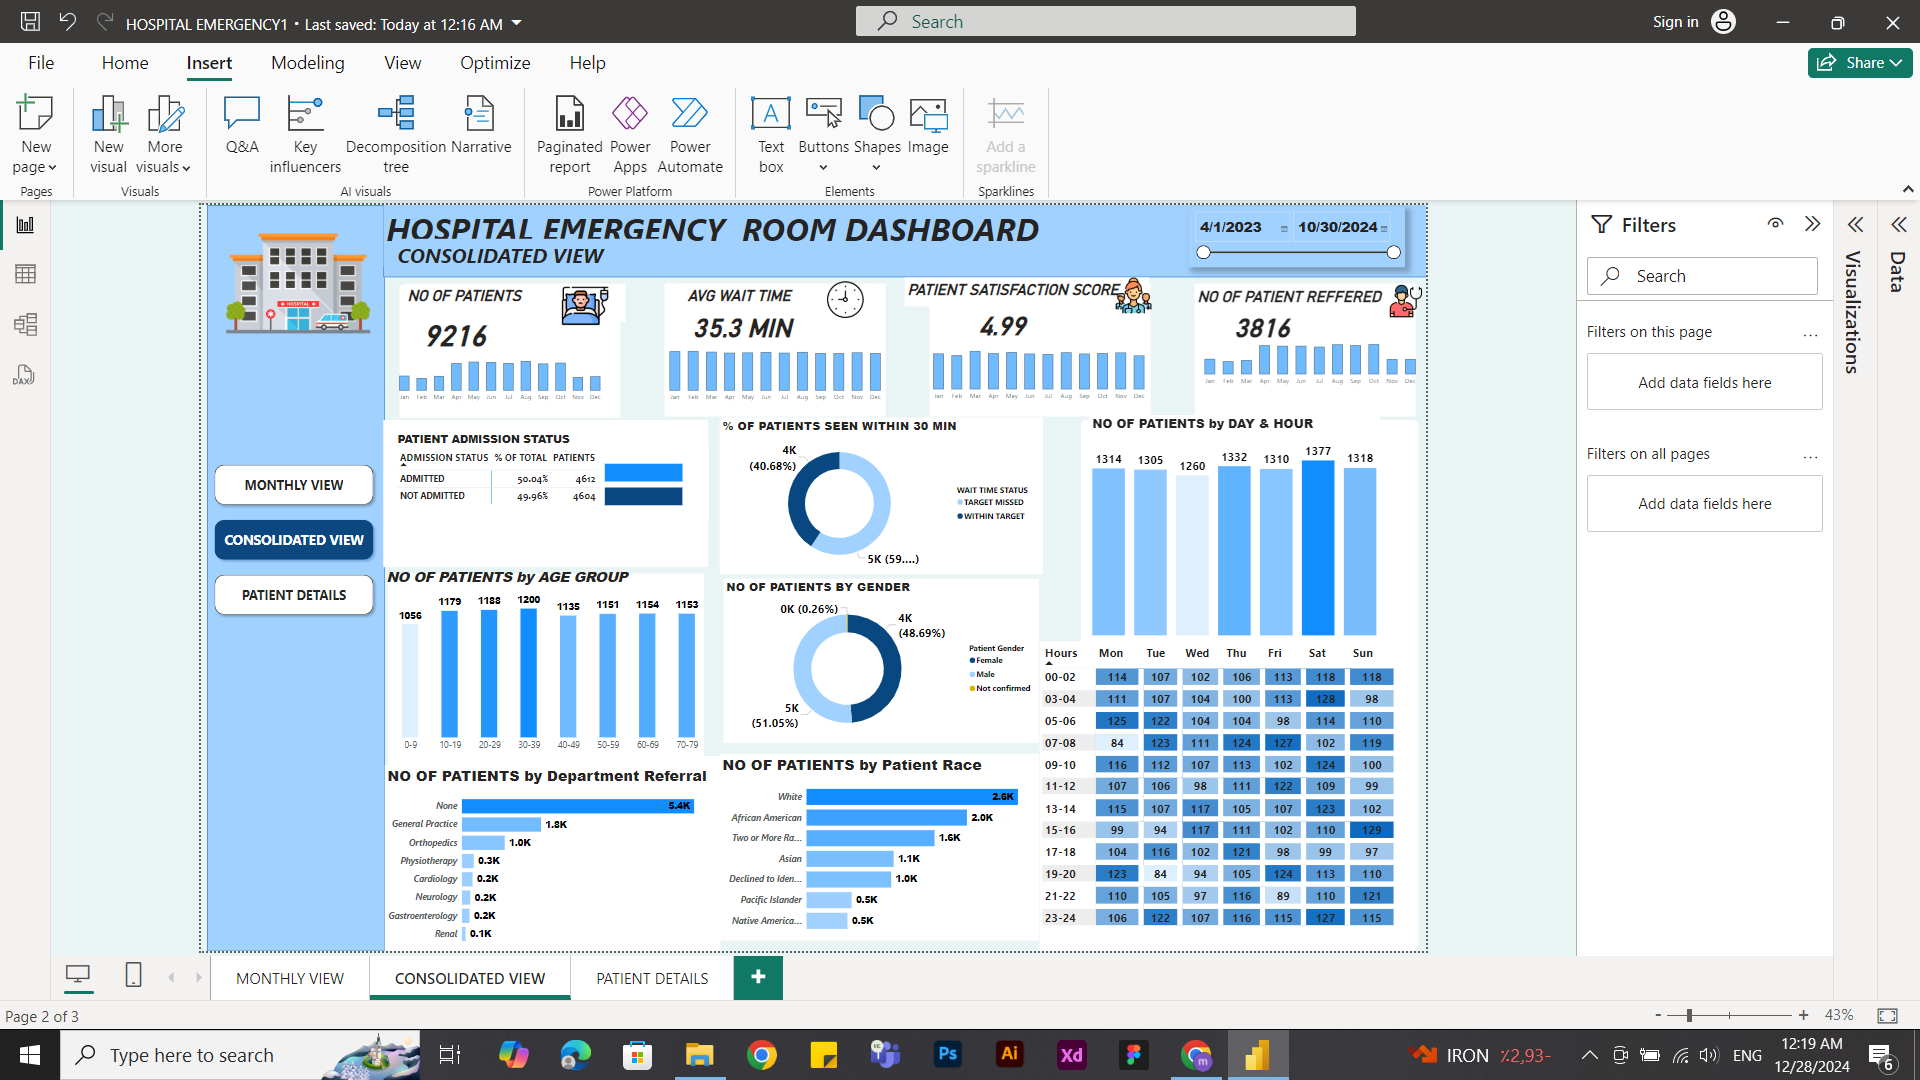

What the dashboard file says about the page in this screenshot:
{"tool":"powerbi","page":{"name":"CONSOLIDATED VIEW","canvas":[2300,1400],"ordinal":1},"visuals":[{"type":"shape","box":[12.3,0,332.9,1400.5],"z":0},{"type":"shape","box":[372.3,150.4,414.2,249],"z":1000},{"type":"shape","box":[342.7,0,1957.8,135.6],"z":2000},{"type":"textbox","box":[342.7,0,1957.8,115.9],"z":3000},{"type":"textbox","box":[362.5,64.1,515.3,66.6],"z":4000},{"type":"card","fields":{"Values":["Hospital ER_Data.NO OF PATIENTS"]},"box":[362.5,184.9,224.4,108.5],"z":5000},{"type":"slicer","fields":{"Values":["DateTable.Date"]},"box":[1854.3,2.5,406.6,114],"z":7000},{"type":"textbox","box":[382.2,147.9,414.2,71.5],"z":8000},{"type":"columnChart","fields":{"Category":["DateTable.Month name"],"Y":["Hospital ER_Data.NO OF PATIENTS"]},"box":[354.5,252.9,414,125],"z":9000},{"type":"shape","box":[1366.8,147.9,414.2,249],"z":11000},{"type":"shape","box":[869.6,147.9,414.2,249],"z":12000},{"type":"shape","box":[1864.1,147.9,414.2,249],"z":13000},{"type":"textbox","box":[907.4,147.9,352.6,71.5],"z":14000},{"type":"card","fields":{"Values":["Hospital ER_Data.AVG WAIT TIME"]},"box":[877.8,170.1,276.2,108.5],"z":15000},{"type":"columnChart","fields":{"Y":["Hospital ER_Data.Patient Waittime"],"Category":["DateTable.Month name"]},"box":[860.5,254,434,125],"z":16000},{"type":"textbox","box":[1864.1,150.4,414.2,66.6],"z":17000},{"type":"textbox","box":[1321.3,136.3,458.6,54.5],"z":18000},{"type":"card","fields":{"Values":["Hospital ER_Data.SATISFACTION SCORE"]},"box":[1366,167.7,276.2,108.5],"z":19000},{"type":"card","fields":{"Values":["Hospital ER_Data.NO OF PATIENTS REFERRED"]},"box":[1854.2,170.1,276.2,108.5],"z":20000},{"type":"columnChart","fields":{"Category":["DateTable.Month name"],"Y":["Hospital ER_Data.SATISFACTION SCORE"]},"box":[1356.1,251.5,434,125],"z":21000},{"type":"columnChart","fields":{"Category":["DateTable.Month name"],"Y":["Hospital ER_Data.NO OF PATIENTS REFERRED"]},"box":[1864.1,221.9,434,125],"z":22000},{"type":"shape","box":[342.7,404.4,609,276.2],"z":23000},{"type":"pivotTable","title":"PATIENT ADMISSION STATUS","fields":{"Rows":["Hospital ER_Data.ADMISSION STATUS"],"Values":["Hospital ER_Data.NO OF PATIENTS","Hospital ER_Data.NO OF PATIENTS1"]},"box":[362.5,424.1,389.6,197.3],"z":24000},{"type":"barChart","fields":{"Category":["Hospital ER_Data.ADMISSION STATUS"],"Series":["Hospital ER_Data.ADMISSION STATUS"],"Y":["Hospital ER_Data.NO OF PATIENTS"]},"box":[752,451.2,199.7,143],"z":25000},{"type":"shape","box":[352.6,692.9,591.8,364.9],"z":26000},{"type":"columnChart","fields":{"Category":["Hospital ER_Data.AGE GROUP"],"Y":["Hospital ER_Data.NO OF PATIENTS"]},"box":[342.7,680.5,621.4,355.1],"z":27000},{"type":"shape","box":[372.3,1035.6,601.6,364.9],"z":28000},{"type":"clusteredBarChart","fields":{"Category":["Hospital ER_Data.Department Referral"],"Y":["Hospital ER_Data.NO OF PATIENTS"]},"box":[345.2,1050.4,618.9,350.1],"z":29000},{"type":"donutChart","title":"% OF PATIENTS SEEN WITHIN 30 MIN","fields":{"Category":["Hospital ER_Data.WAIT TIME STATUS"],"Y":["Hospital ER_Data.NO OF PATIENTS"]},"box":[974,399.4,606.6,293.4],"z":30000},{"type":"donutChart","title":"NO OF PATIENTS BY GENDER","fields":{"Y":["Hospital ER_Data.NO OF PATIENTS"],"Series":["Hospital ER_Data.Patient Gender"]},"box":[981.3,700.3,591.8,308.2],"z":31000},{"type":"clusteredBarChart","fields":{"Category":["Hospital ER_Data.Patient Race"],"Y":["Hospital ER_Data.NO OF PATIENTS"]},"box":[974,1030.7,599.2,350.1],"z":32000},{"type":"shape","box":[1652,404.4,633.7,991.2],"z":33000},{"type":"pivotTable","fields":{"Rows":["Hospital ER_Data.WAITTIME INTERVAL"],"Columns":["DateTable.DAYNAME"],"Values":["Hospital ER_Data.NO OF PATIENTS"]},"box":[1573.1,818.6,705.2,581.9],"z":34000},{"type":"columnChart","title":"NO OF PATIENTS by DAY & HOUR","fields":{"Y":["Hospital ER_Data.NO OF PATIENTS"],"Category":["DateTable.DAYNAME"]},"box":[1666.8,394.5,544.9,419.2],"z":35000},{"type":"image","box":[1158.9,138.1,101.1,78.9],"z":36000},{"type":"image","box":[1710.5,131.4,79.3,76.8],"z":37000},{"type":"image","box":[572.6,141.3,297.5,96.7],"z":38000},{"type":"image","box":[2221.2,143.8,79.3,74.4],"z":39000},{"type":"pageNavigator","box":[17.4,478.4,316,300],"z":40001},{"type":"image","box":[32.2,0,300,295],"z":40002}]}

Visuals, with their boxes on the page's 2300x1400 design canvas (x1, y1, x2, y2). These are canvas units, not pixel positions in the 1920x1080 screenshot, which may show the page scaled, cropped or inside an application window:
shape: select_region(12, 0, 345, 1400)
shape: select_region(372, 150, 786, 399)
shape: select_region(343, 0, 2300, 136)
textbox: select_region(343, 0, 2300, 116)
textbox: select_region(362, 64, 878, 131)
card - Hospital ER_Data.NO OF PATIENTS: select_region(362, 185, 587, 293)
slicer - DateTable.Date: select_region(1854, 2, 2261, 116)
textbox: select_region(382, 148, 796, 219)
columnChart - DateTable.Month name x Hospital ER_Data.NO OF PATIENTS: select_region(354, 253, 768, 378)
shape: select_region(1367, 148, 1781, 397)
shape: select_region(870, 148, 1284, 397)
shape: select_region(1864, 148, 2278, 397)
textbox: select_region(907, 148, 1260, 219)
card - Hospital ER_Data.AVG WAIT TIME: select_region(878, 170, 1154, 279)
columnChart - Hospital ER_Data.Patient Waittime x DateTable.Month name: select_region(860, 254, 1294, 379)
textbox: select_region(1864, 150, 2278, 217)
textbox: select_region(1321, 136, 1780, 191)
card - Hospital ER_Data.SATISFACTION SCORE: select_region(1366, 168, 1642, 276)
card - Hospital ER_Data.NO OF PATIENTS REFERRED: select_region(1854, 170, 2130, 279)
columnChart - DateTable.Month name x Hospital ER_Data.SATISFACTION SCORE: select_region(1356, 252, 1790, 376)
columnChart - DateTable.Month name x Hospital ER_Data.NO OF PATIENTS REFERRED: select_region(1864, 222, 2298, 347)
shape: select_region(343, 404, 952, 681)
"PATIENT ADMISSION STATUS" pivotTable: select_region(362, 424, 752, 621)
barChart - Hospital ER_Data.ADMISSION STATUS x Hospital ER_Data.ADMISSION STATUS: select_region(752, 451, 952, 594)
shape: select_region(353, 693, 944, 1058)
columnChart - Hospital ER_Data.AGE GROUP x Hospital ER_Data.NO OF PATIENTS: select_region(343, 680, 964, 1036)
shape: select_region(372, 1036, 974, 1400)
clusteredBarChart - Hospital ER_Data.Department Referral x Hospital ER_Data.NO OF PATIENTS: select_region(345, 1050, 964, 1400)
"% OF PATIENTS SEEN WITHIN 30 MIN" donutChart: select_region(974, 399, 1581, 693)
"NO OF PATIENTS BY GENDER" donutChart: select_region(981, 700, 1573, 1008)
clusteredBarChart - Hospital ER_Data.Patient Race x Hospital ER_Data.NO OF PATIENTS: select_region(974, 1031, 1573, 1381)
shape: select_region(1652, 404, 2286, 1396)
pivotTable - Hospital ER_Data.WAITTIME INTERVAL x DateTable.DAYNAME: select_region(1573, 819, 2278, 1400)
"NO OF PATIENTS by DAY & HOUR" columnChart: select_region(1667, 394, 2212, 814)
image: select_region(1159, 138, 1260, 217)
image: select_region(1710, 131, 1790, 208)
image: select_region(573, 141, 870, 238)
image: select_region(2221, 144, 2300, 218)
pageNavigator: select_region(17, 478, 333, 778)
image: select_region(32, 0, 332, 295)
